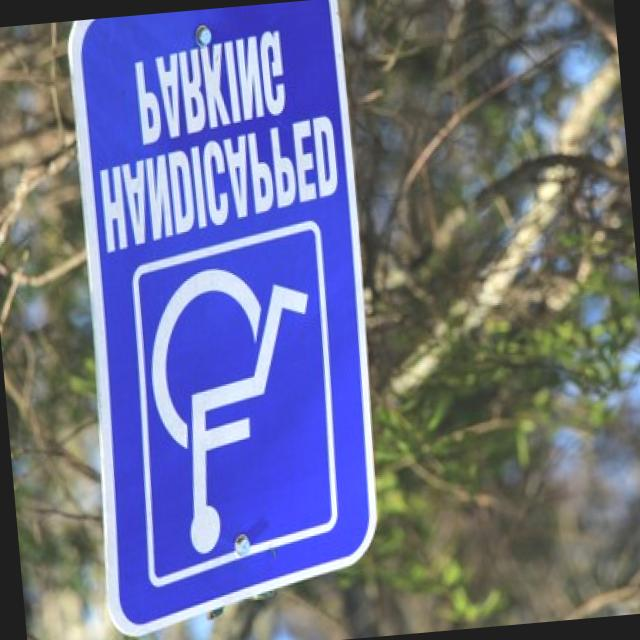symbol_of_access: (114, 214, 358, 592)
